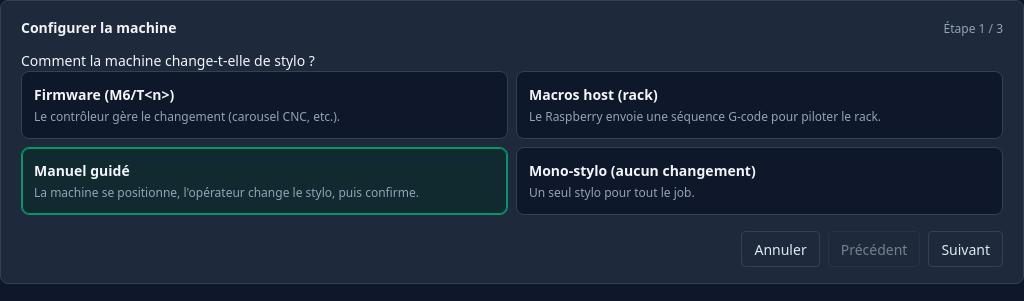
Test: CapabilityWizard › hides the knobs step content for single_pen
Click the button with test id "cap-mode-single_pen".
click(642, 171)  # box [516,147,1003,215]
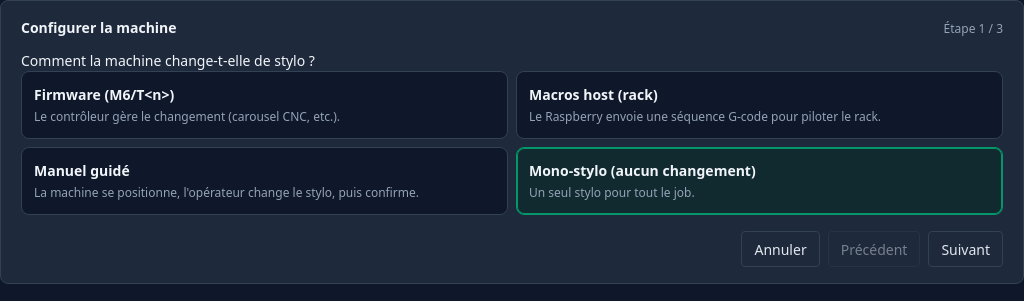
Click the button with test id "cap-next".
click(966, 249)  # box [928,231,1003,267]
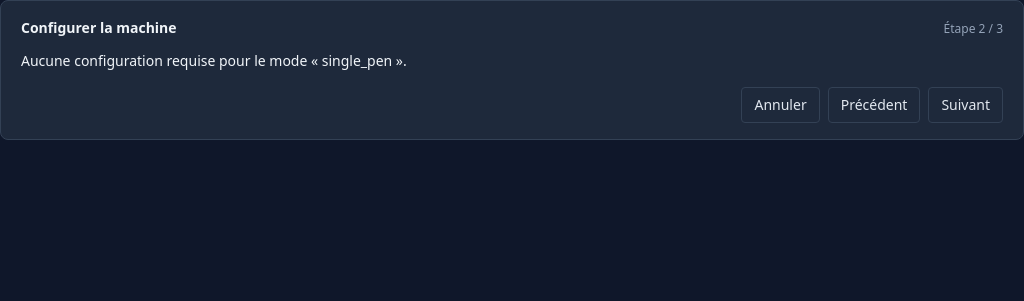
Now the text "Aucune configuration requise pour le mode « single_pen »." is shown, box [21,51,407,70]
